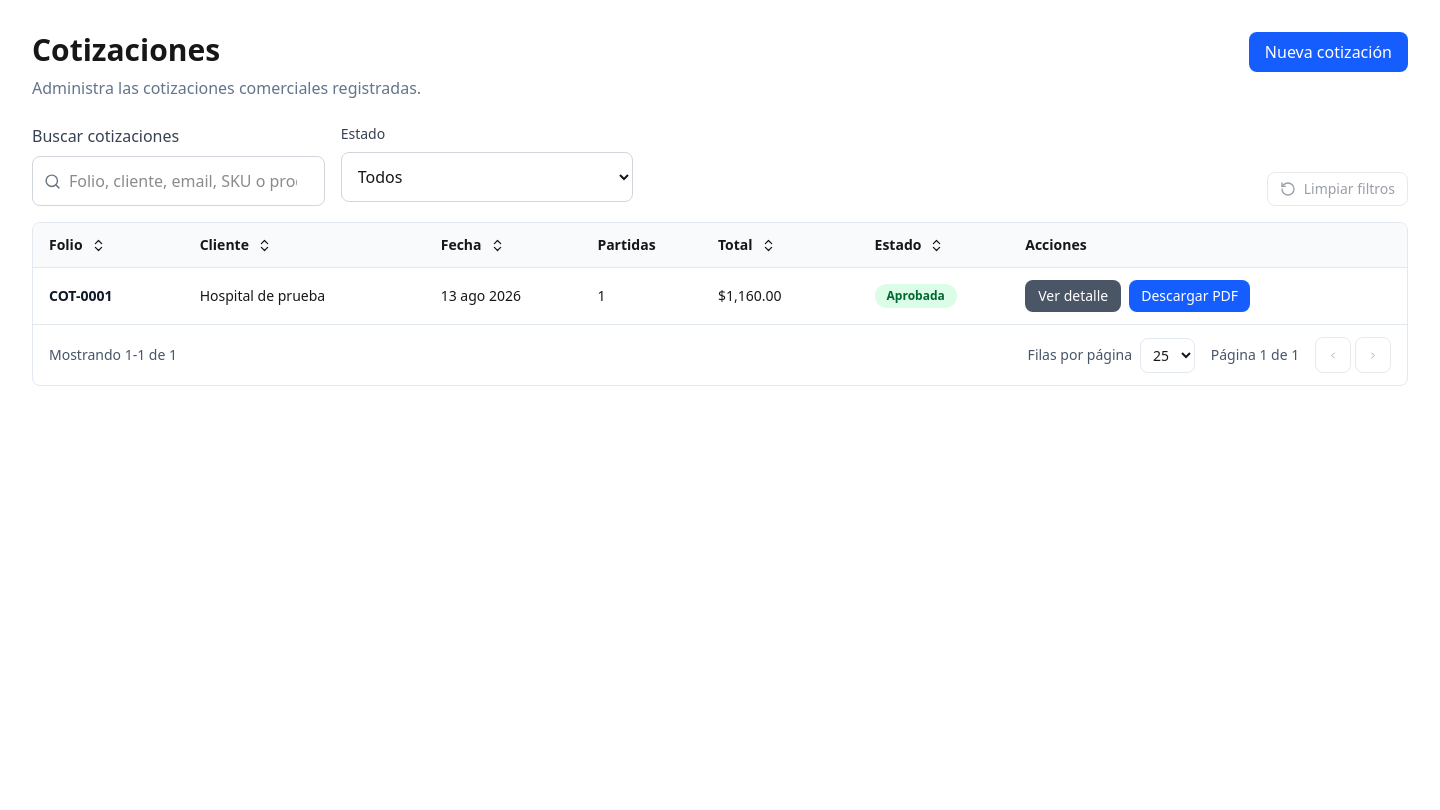
Scenario: QuotesPage › no permite convertir nuevamente una cotización ya convertida
Expected: the text "COT-0001" is shown, 49,286 -> 112,305
Click the button "Ver detalle": (1073, 296) 1025,280 -> 1121,312
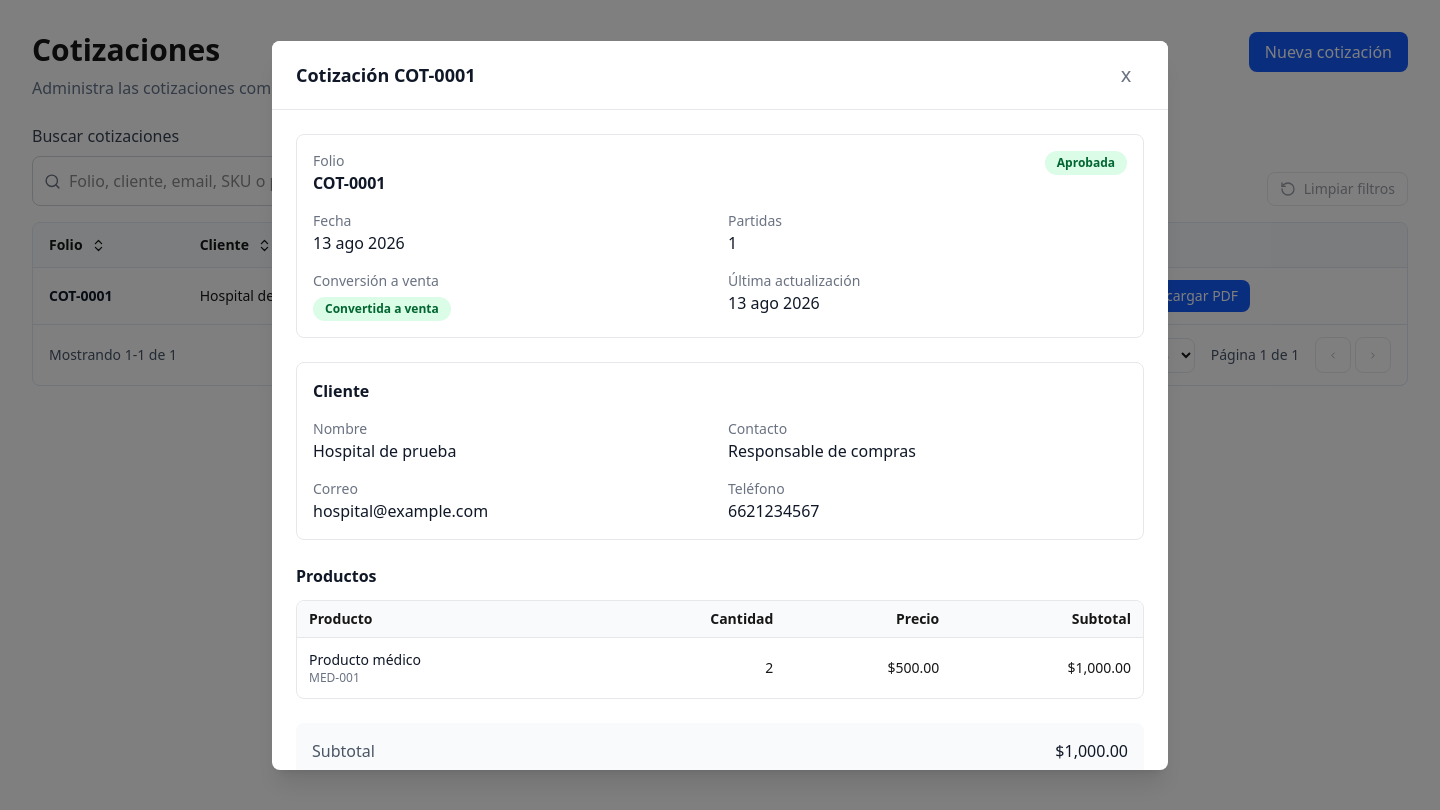
Now the text "Convertida a venta" is shown, box 325,300 -> 439,316
